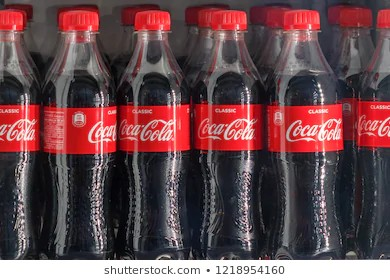coke-bottle-700ml: (116, 5, 197, 260), (267, 5, 348, 260), (41, 2, 116, 257), (197, 4, 266, 260)
